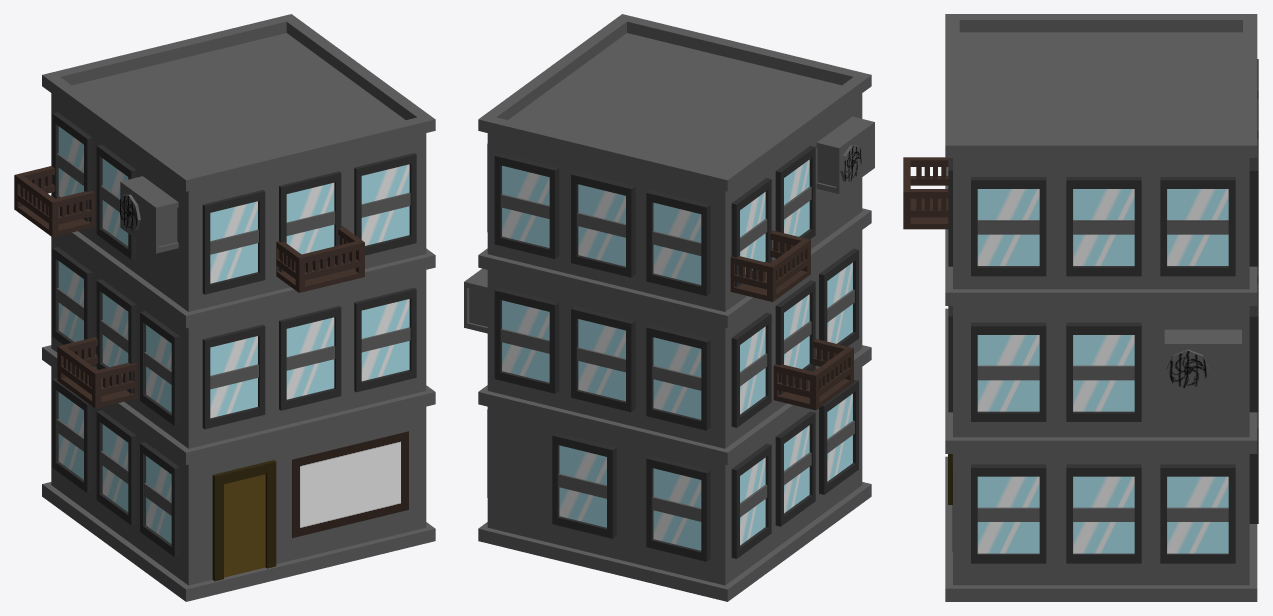
Rendered from 5 Building.fbx.
3 renders of one model, left to right at view 1: azimuth 30°, elevation 25°; view 2: azimuth 150°, elevation 25°; view 3: azimuth 270°, elevation 25°, orthographic. The views are drawn at different scales.
Visible parts, largest first — view 1: Med1, Sign3, Normal Door.002, Window1.010, Window1.002, Cube.041, Window1.004, Cube.050, Window1.011, Window1.021, Cube.055, Cube.046 (+9 smaller); view 2: Med1, Window1.006, Window1.014, Window1.022, Window1.007, Cube.052, Cube.048, Window1.015, Cube.056, Window1.021, Window1.020, Window1.003 (+9 smaller); view 3: Med1, Window1.009, Cube.053, Window1.017, Cube.057, Window1.024, Window1.025, Window1.008, Window1.016, Cube.049, building_068.010, Window1.014 (+4 smaller).
Part boxes in pixels (left/top/right/bottom): Med1: left=42, top=14, right=435, bottom=601; Sign3: left=292, top=431, right=408, bottom=538; Normal Door.002: left=212, top=460, right=276, bottom=581; Window1.010: left=202, top=190, right=265, bottom=294; Window1.002: left=202, top=324, right=265, bottom=429; Cube.041: left=354, top=287, right=416, bottom=392; Window1.004: left=279, top=306, right=341, bottom=410; Cube.050: left=354, top=153, right=416, bottom=255; Window1.011: left=279, top=171, right=341, bottom=272; Window1.021: left=96, top=410, right=136, bottom=525; Cube.055: left=140, top=442, right=179, bottom=557; Cube.046: left=140, top=311, right=179, bottom=425; Med1: left=478, top=14, right=871, bottom=601; Window1.006: left=494, top=287, right=559, bottom=393; Window1.014: left=494, top=153, right=559, bottom=258; Window1.022: left=552, top=432, right=616, bottom=538; Window1.007: left=571, top=306, right=635, bottom=412; Cube.052: left=646, top=190, right=710, bottom=295; Cube.048: left=646, top=324, right=710, bottom=430; Window1.015: left=571, top=171, right=635, bottom=277; Cube.056: left=646, top=455, right=710, bottom=561; Window1.021: left=775, top=411, right=815, bottom=526; Window1.020: left=731, top=443, right=771, bottom=558; Window1.003: left=731, top=312, right=771, bottom=427; Med1: left=945, top=14, right=1257, bottom=601; Window1.009: left=1066, top=322, right=1141, bottom=421; Cube.053: left=1160, top=177, right=1235, bottom=276; Window1.017: left=1066, top=177, right=1141, bottom=276; Cube.057: left=1160, top=464, right=1235, bottom=563; Window1.024: left=971, top=464, right=1046, bottom=563; Window1.025: left=1066, top=464, right=1141, bottom=563; Window1.008: left=971, top=322, right=1046, bottom=421; Window1.016: left=971, top=177, right=1046, bottom=276; Cube.049: left=1164, top=329, right=1241, bottom=393; building_068.010: left=903, top=157, right=948, bottom=229; Window1.014: left=1249, top=139, right=1258, bottom=266.
Size of the model in its own units: 522 by 678 by 479.
